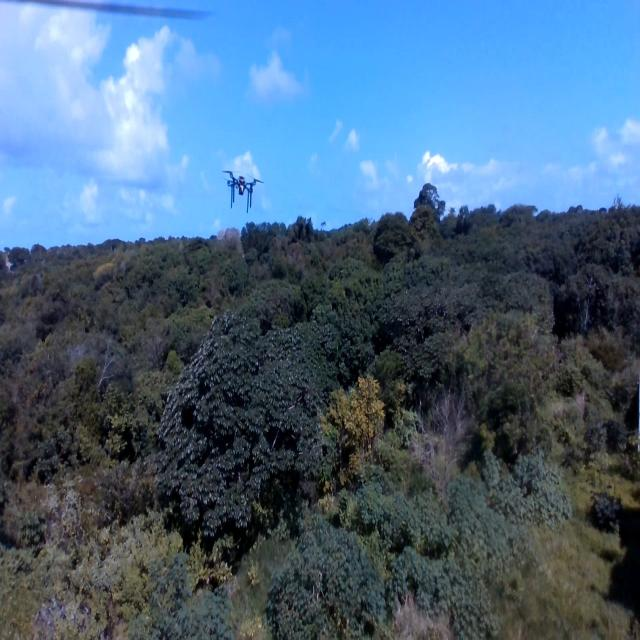-uav-: (217, 158, 266, 218)
